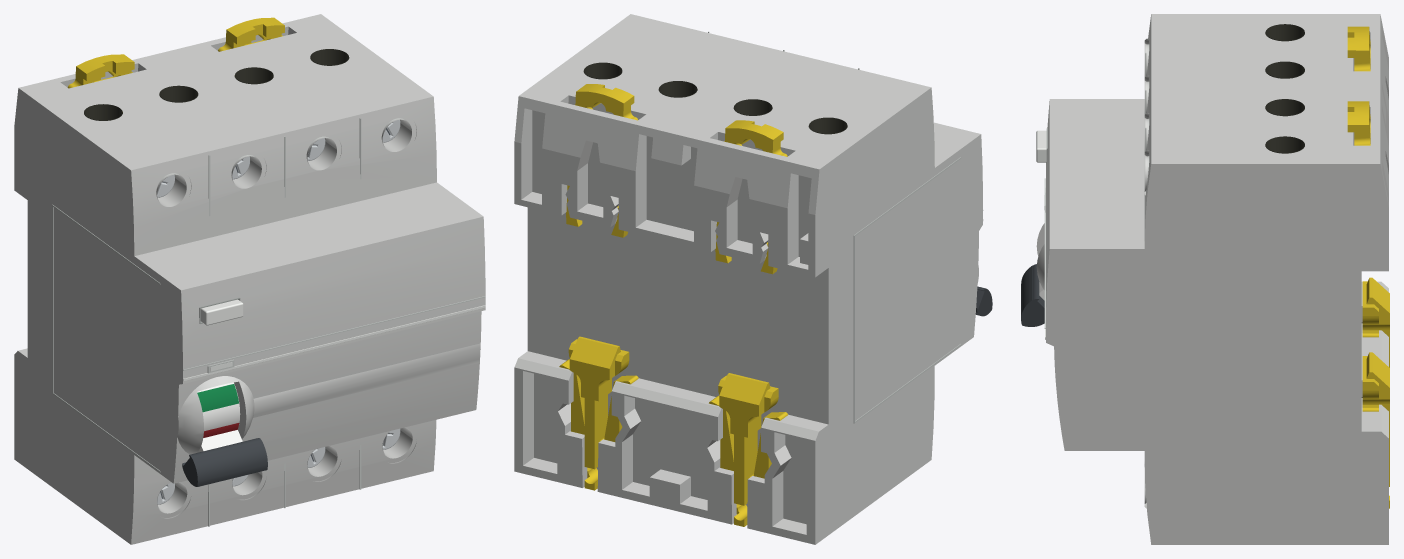
Rendered from schneider-acti9-iid-4p.glb.
The picture shows the model from 3 angles, left to right: view 1: azimuth 30°, elevation 25°; view 2: azimuth 150°, elevation 25°; view 3: azimuth 270°, elevation 25°; orthographic projection. The views are drawn at different scales.
Parts seen in each view (by area): view 1: schneider_body, schneider_fascia_details, schneider_handle_grip, schneider_clip_2, schneider_clip_1, schneider_handle_barrel, schneider_test, schneider_visisafe_trip; view 2: schneider_body, schneider_clip_4, schneider_clip_3, schneider_clip_2, schneider_clip_1, schneider_fascia_details; view 3: schneider_body, schneider_clip_4, schneider_clip_3, schneider_handle_grip, schneider_clip_2, schneider_clip_1, cavity_5, cavity_1, cavity_N1, cavity_3, schneider_fascia_details.
Part boxes in pixels (x1,y1,x2,y2): schneider_body: (14, 14, 485, 544); schneider_fascia_details: (52, 118, 485, 526); schneider_handle_grip: (182, 438, 267, 486); schneider_clip_2: (67, 54, 134, 88); schneider_clip_1: (218, 17, 284, 51); schneider_handle_barrel: (197, 382, 240, 431); schneider_test: (200, 299, 243, 325); schneider_visisafe_trip: (197, 384, 238, 412); schneider_body: (514, 14, 982, 544); schneider_clip_4: (559, 336, 638, 490); schneider_clip_3: (709, 373, 787, 526); schneider_clip_2: (715, 120, 787, 274); schneider_clip_1: (566, 84, 637, 237); schneider_fascia_details: (708, 31, 983, 423); schneider_body: (1036, 14, 1388, 544); schneider_clip_4: (1362, 352, 1389, 508); schneider_clip_3: (1362, 277, 1389, 367); schneider_handle_grip: (1021, 264, 1044, 326); schneider_clip_2: (1347, 26, 1370, 71); schneider_clip_1: (1347, 101, 1370, 145); cavity_5: (1265, 136, 1304, 153); cavity_1: (1265, 61, 1304, 106); cavity_N1: (1265, 24, 1304, 69); cavity_3: (1265, 99, 1304, 116); schneider_fascia_details: (1044, 52, 1146, 339).
Size of the model in its own units: 0.0718 by 0.0887 by 0.0744.
